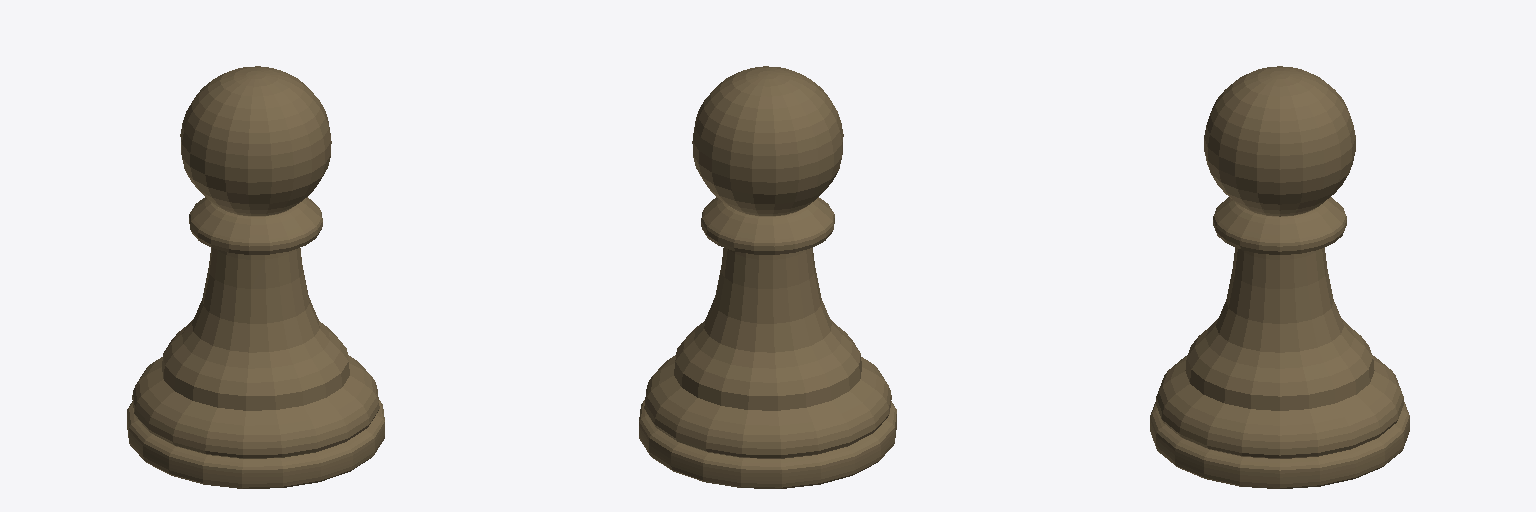
File: peonBlanco.obj
3 renders of one model, left to right at view 1: azimuth 30°, elevation 25°; view 2: azimuth 150°, elevation 25°; view 3: azimuth 270°, elevation 25°, orthographic.
Parts seen in each view (by area): view 1: body; view 2: body; view 3: body.
Boxes of the visible parts, x1,y1,x2,y2 form: body: [127, 66, 384, 488]; body: [639, 66, 896, 488]; body: [1150, 66, 1409, 488].
Bounding box in the file's own units: 1.36 × 2.1 × 1.36.